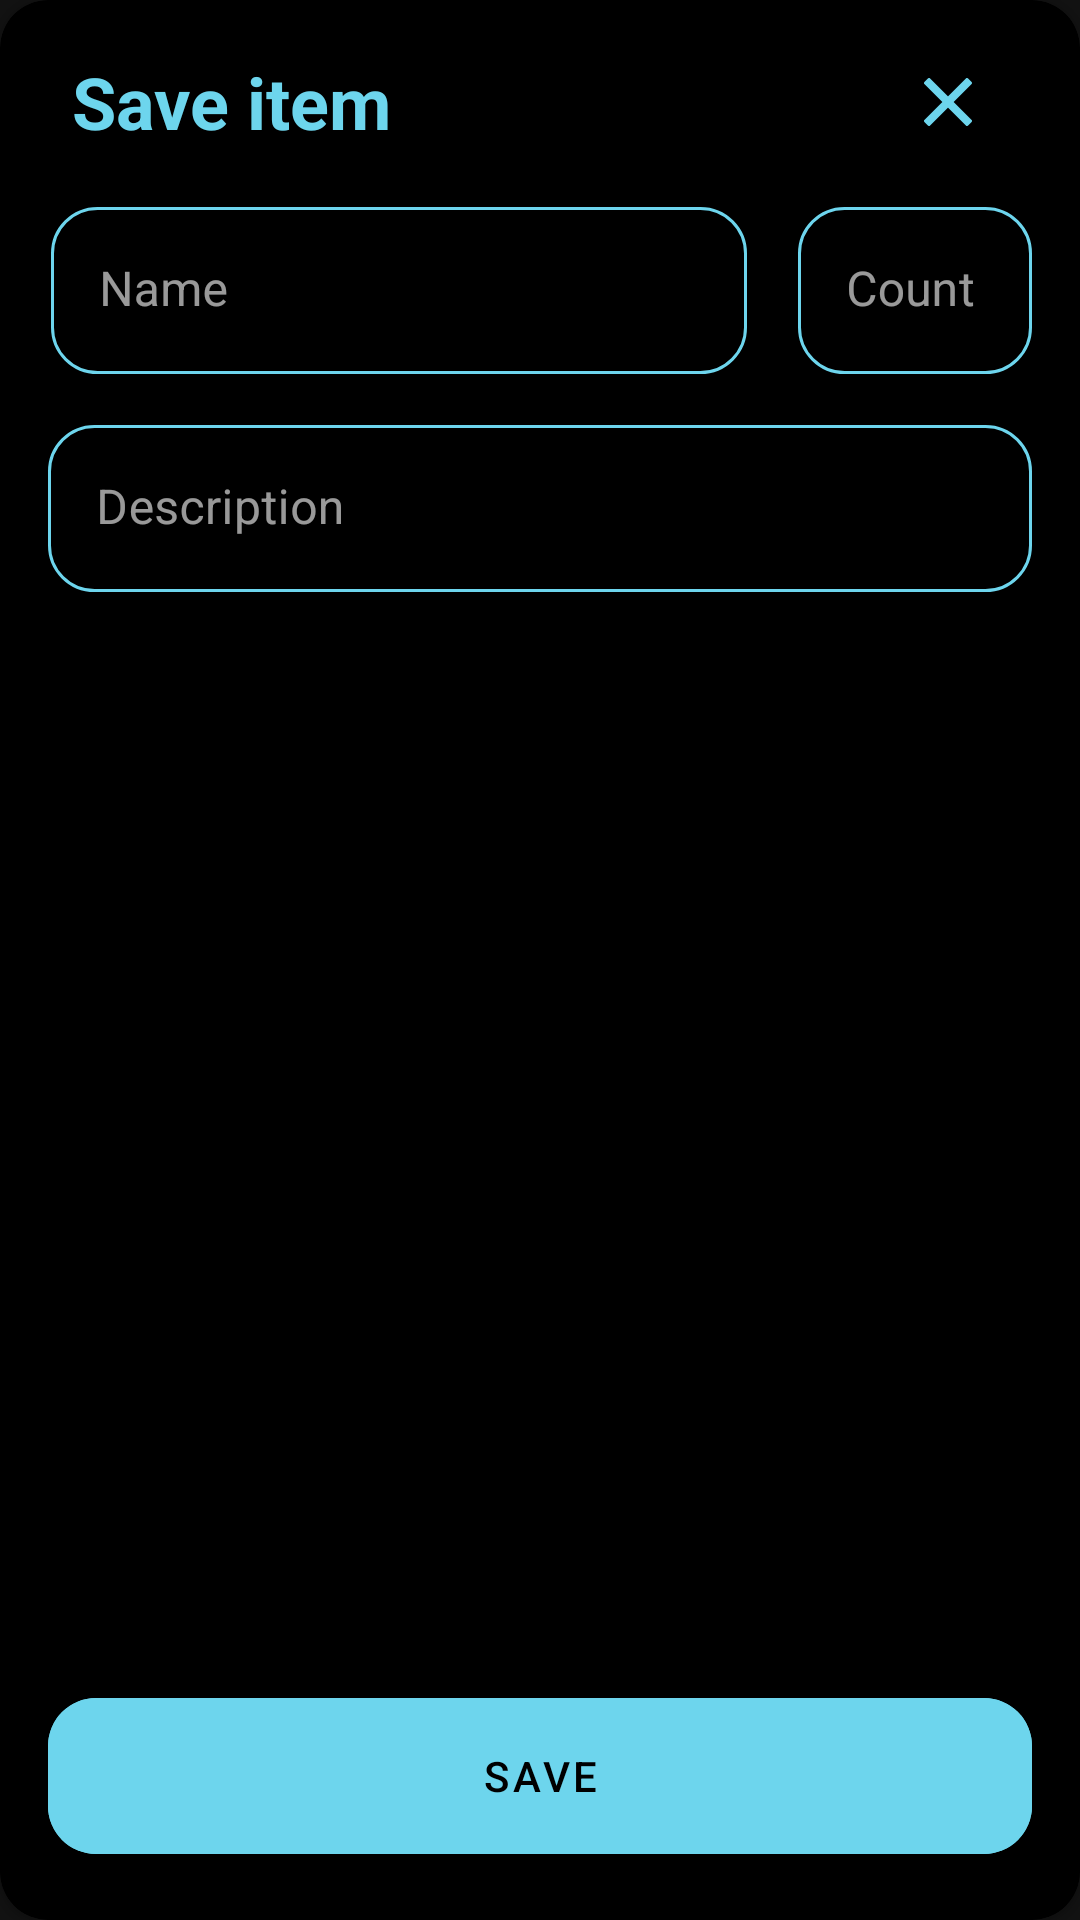

Screen size 1080px x 1920px. Icon name, then its box in pixels as (x1, y1, x2, y2):
Close bottom sheet: (924, 78, 972, 126)
